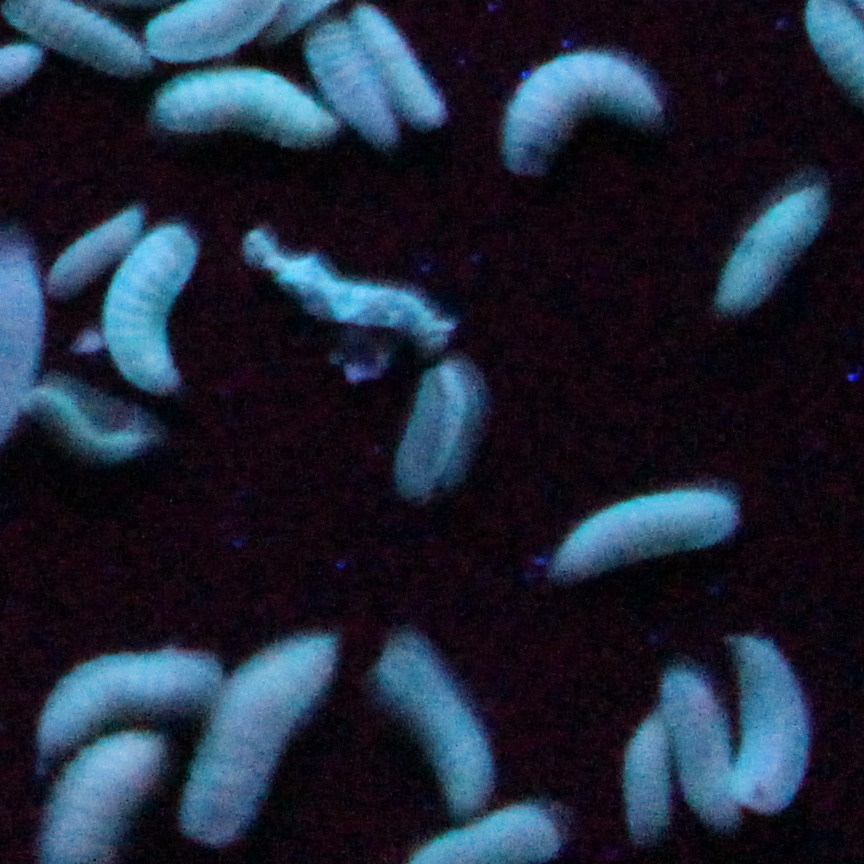larve: (184, 636, 331, 835), (383, 642, 493, 818), (45, 646, 214, 748), (556, 489, 736, 581), (515, 58, 652, 176), (716, 180, 826, 312), (113, 238, 193, 395), (730, 635, 799, 815), (160, 75, 320, 144), (309, 25, 393, 150), (360, 5, 444, 127), (660, 672, 726, 814), (401, 361, 462, 507), (618, 720, 674, 845), (51, 211, 139, 288)
